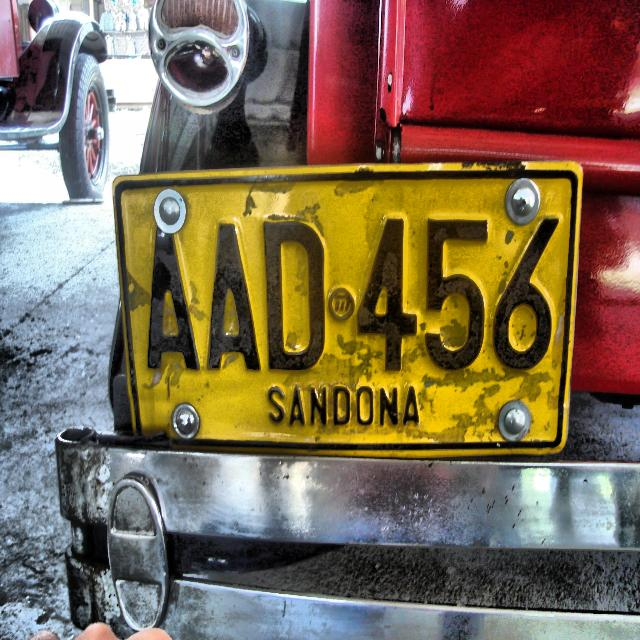plate: (112, 159, 583, 454)
